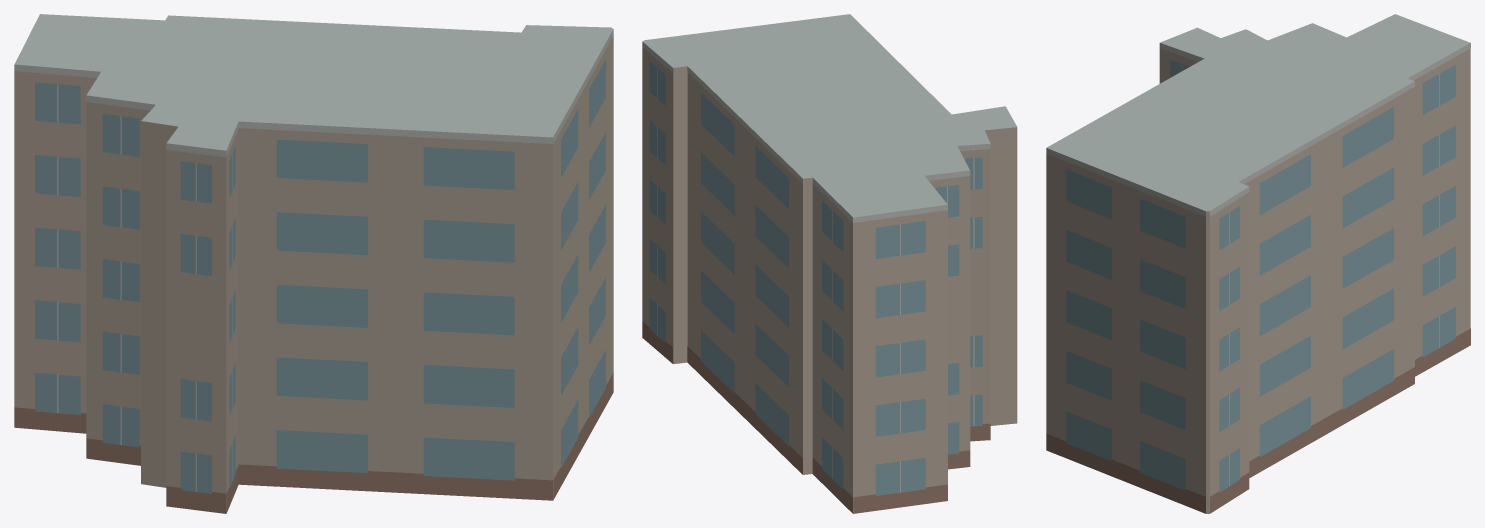
Rendered from survey-upis-32642236.glb.
The picture shows the model from 3 angles, left to right: view 1: azimuth 30°, elevation 25°; view 2: azimuth 150°, elevation 25°; view 3: azimuth 270°, elevation 25°; orthographic projection. The views are drawn at different scales.
Parts seen in each view (by area): view 1: survey-upis-32642236.tmp; view 2: survey-upis-32642236.tmp; view 3: survey-upis-32642236.tmp.
Part boxes in pixels (x1,y1,x2,y2): survey-upis-32642236.tmp: (14,14,613,513); survey-upis-32642236.tmp: (642,14,1017,513); survey-upis-32642236.tmp: (1046,14,1470,513).
Bounding box in the file's own units: 18.76 × 13.4 × 17.05.
